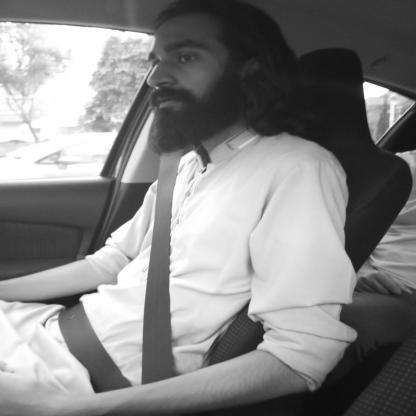seatbelt: (120, 0, 279, 342)
